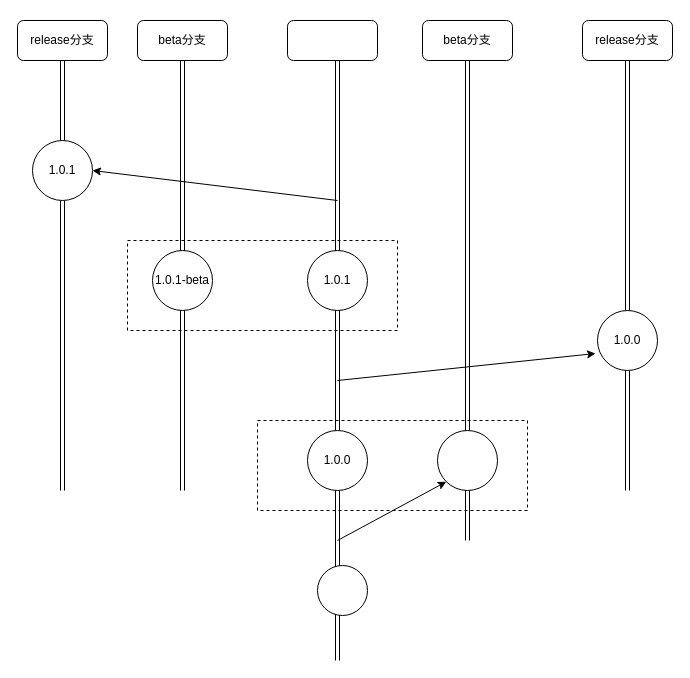
This 690x678 diagram has some shape labels left out. The centre of each missing label's shape, as x and y in pixels:
"1.0.0-beta" belongs at [467,460].
"1.0.0-snpashot" belongs at [342,590].
"master分支" belongs at [332,40].
